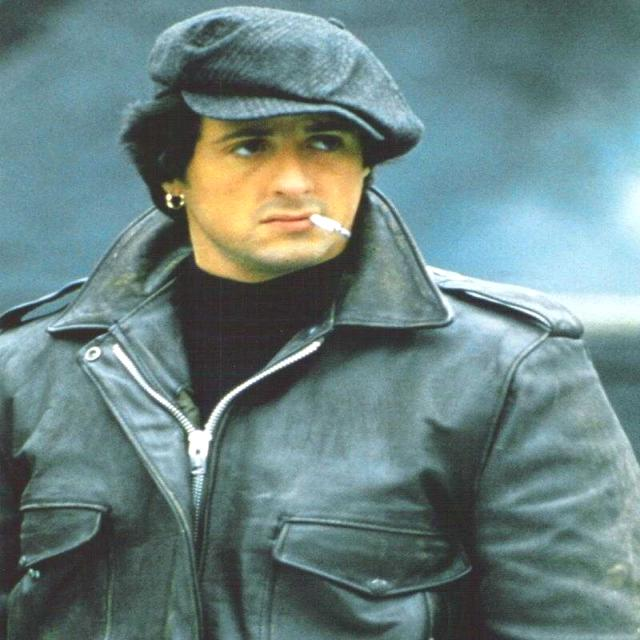Smooking: (302, 203, 369, 250)
